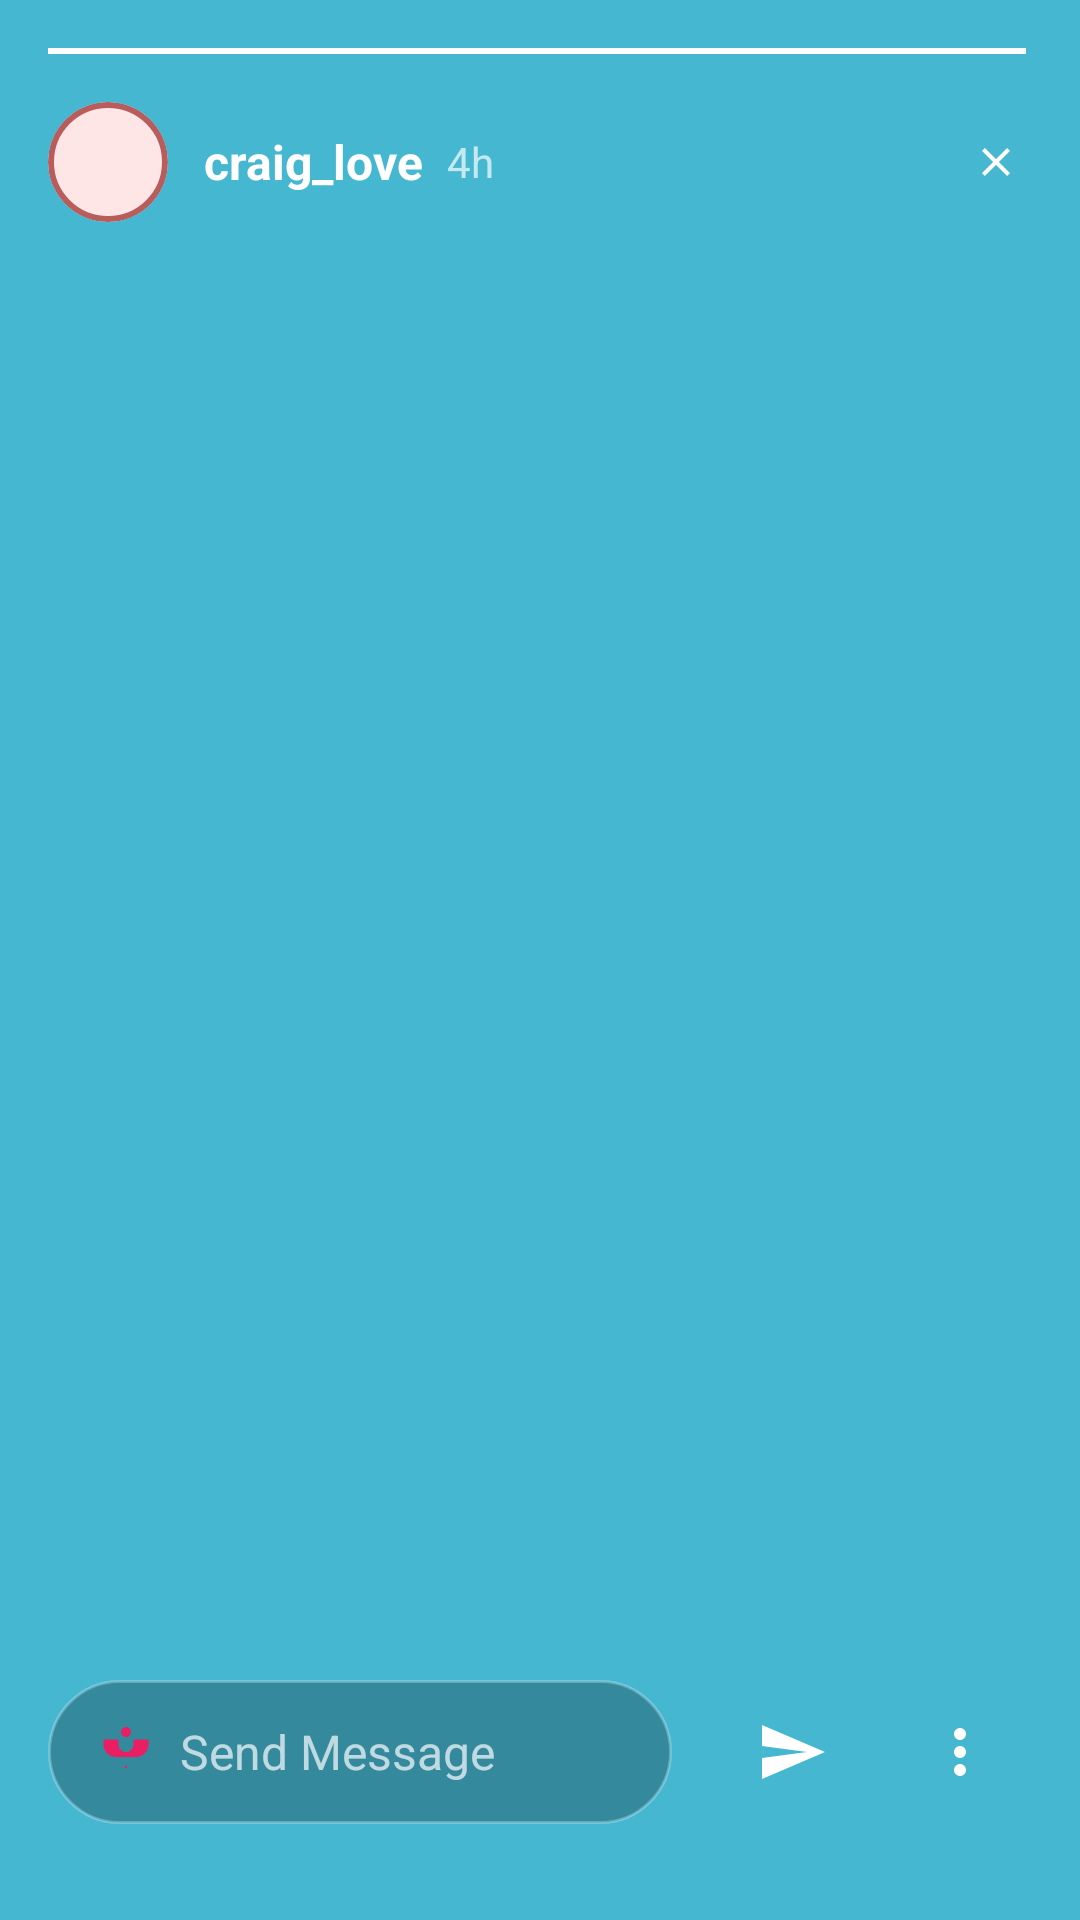

Screen size 1080w x 1920h. Icon name, then its box in pixels as (x1, y1, x2, y2):
close: (982, 148, 1010, 176)
more dots: (954, 1728, 966, 1776)
send story: (762, 1725, 825, 1779)
